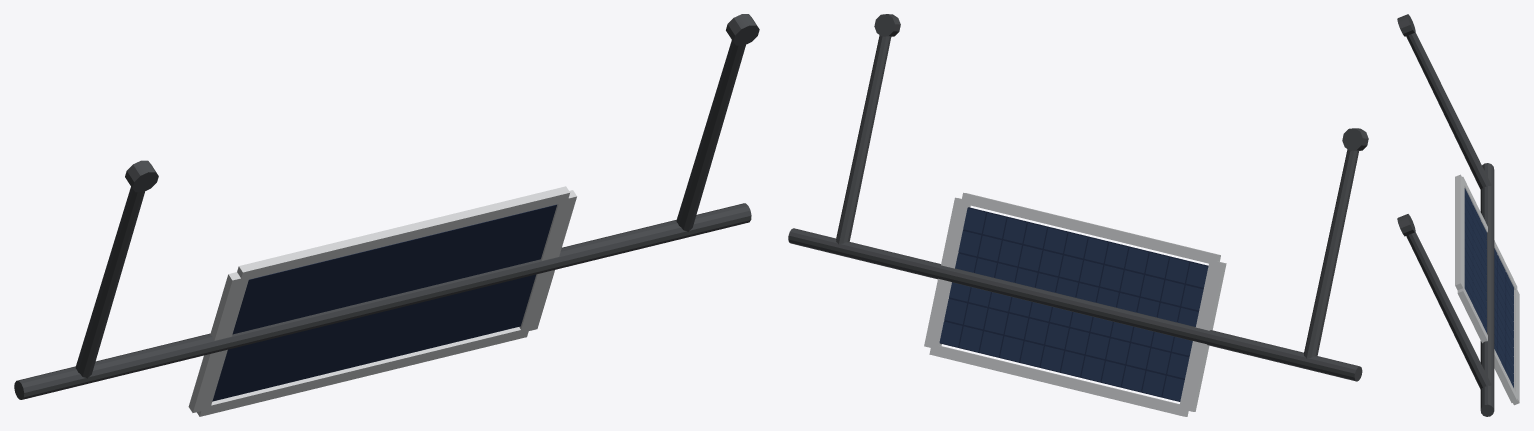
File: solar_panel.glb
The picture shows the model from 3 angles, left to right: view 1: azimuth 30°, elevation 25°; view 2: azimuth 150°, elevation 25°; view 3: azimuth 270°, elevation 25°; orthographic projection. The views are drawn at different scales.
Visible parts, largest first — view 1: glass, frame, torque_tube, post_-1.9, post_1.9, bearing_-1.9, bearing_1.9; view 2: cells, frame, torque_tube, glass, post_1.9, post_-1.9; view 3: cells, frame, torque_tube, post_1.9, post_-1.9, bearing_1.9, bearing_-1.9, glass.
Part boxes in pixels (bbox=[...]): glass: bbox=[212, 204, 556, 401]; frame: bbox=[188, 186, 576, 416]; torque_tube: bbox=[14, 203, 751, 399]; post_-1.9: bbox=[75, 187, 144, 378]; post_1.9: bbox=[676, 40, 745, 231]; bearing_-1.9: bbox=[125, 160, 158, 192]; bearing_1.9: bbox=[726, 14, 759, 45]; cells: bbox=[939, 208, 1208, 400]; frame: bbox=[924, 192, 1226, 416]; torque_tube: bbox=[788, 228, 1362, 381]; glass: bbox=[940, 207, 1208, 401]; post_1.9: bbox=[836, 35, 891, 244]; post_-1.9: bbox=[1304, 149, 1358, 358]; cells: bbox=[1464, 188, 1513, 387]; frame: bbox=[1455, 174, 1519, 405]; torque_tube: bbox=[1480, 163, 1494, 416]; post_1.9: bbox=[1406, 232, 1491, 389]; post_-1.9: bbox=[1406, 32, 1491, 189]; bearing_1.9: bbox=[1397, 214, 1415, 236]; bearing_-1.9: bbox=[1397, 14, 1415, 36]; glass: bbox=[1472, 221, 1505, 371].
Bounding box in the file's own units: 4.6 × 2.1 × 0.985.
